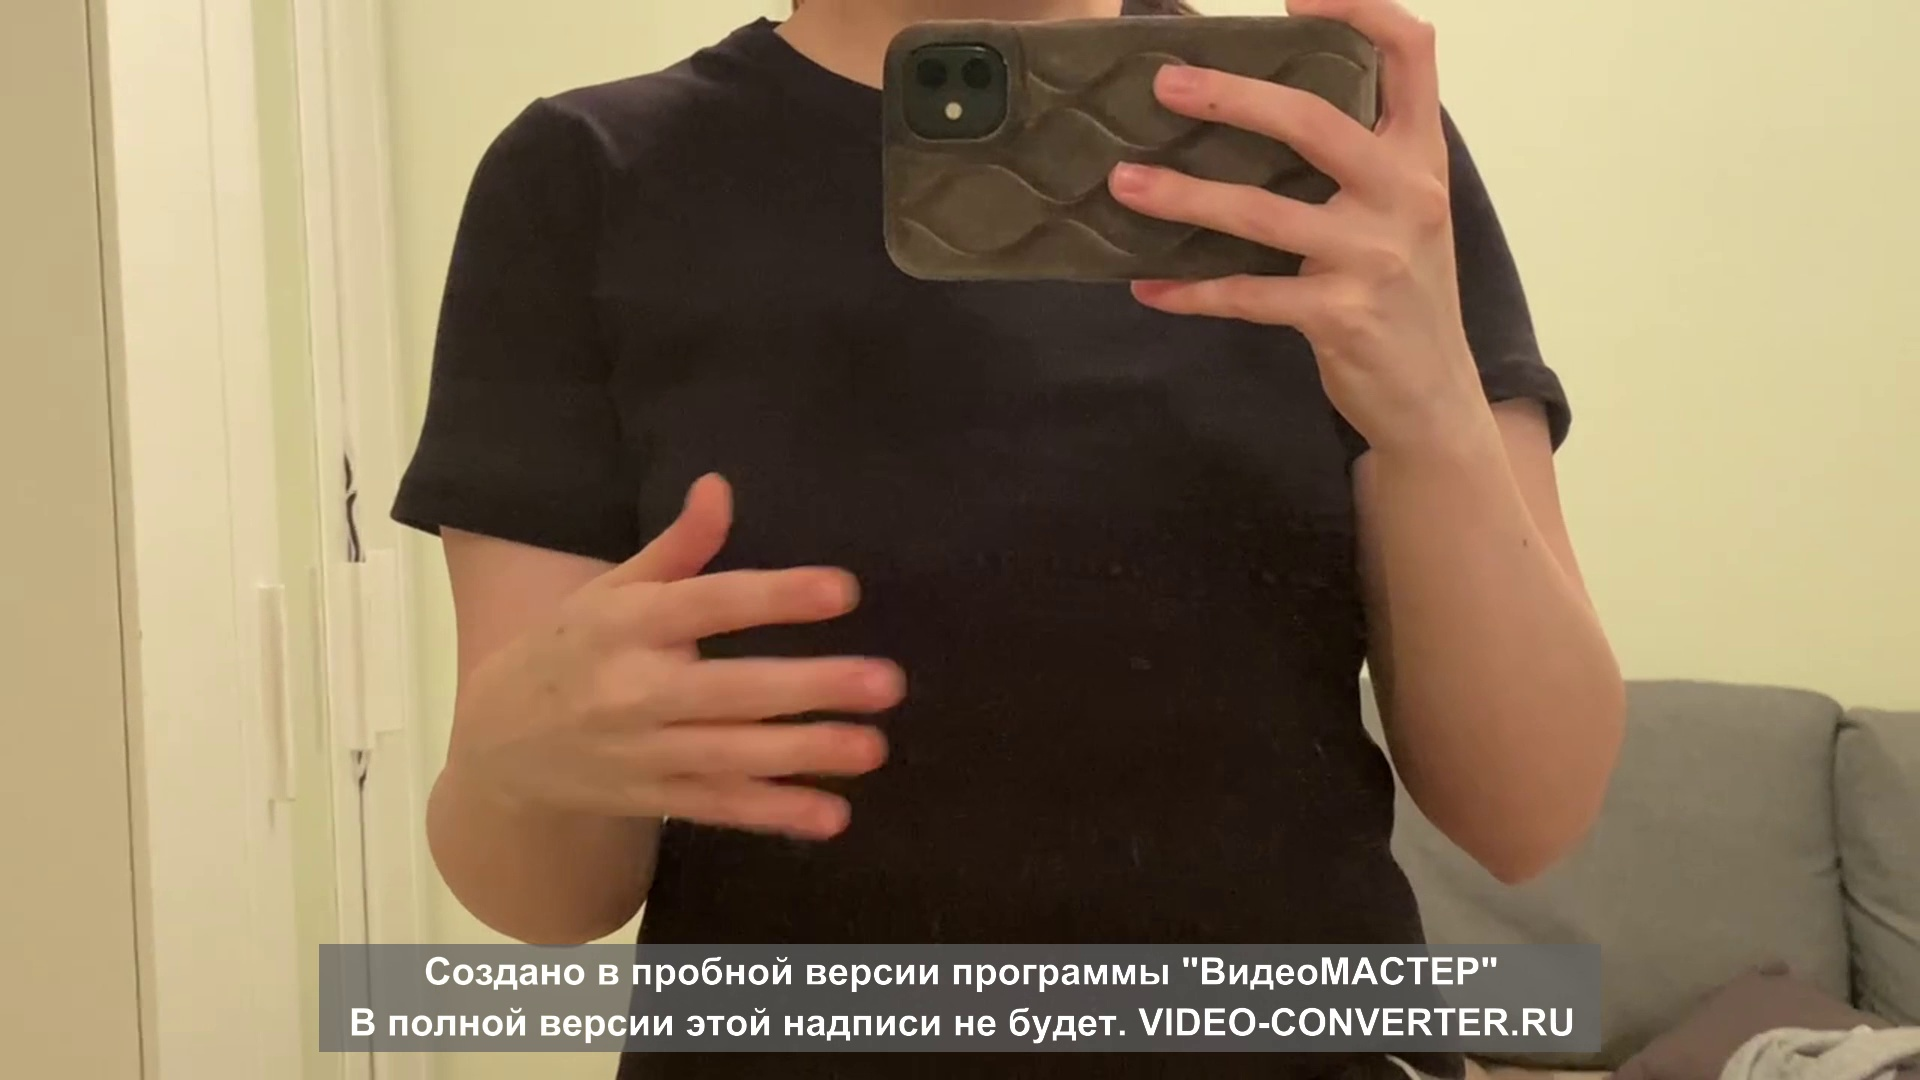Кисть: (460, 472, 906, 835)
